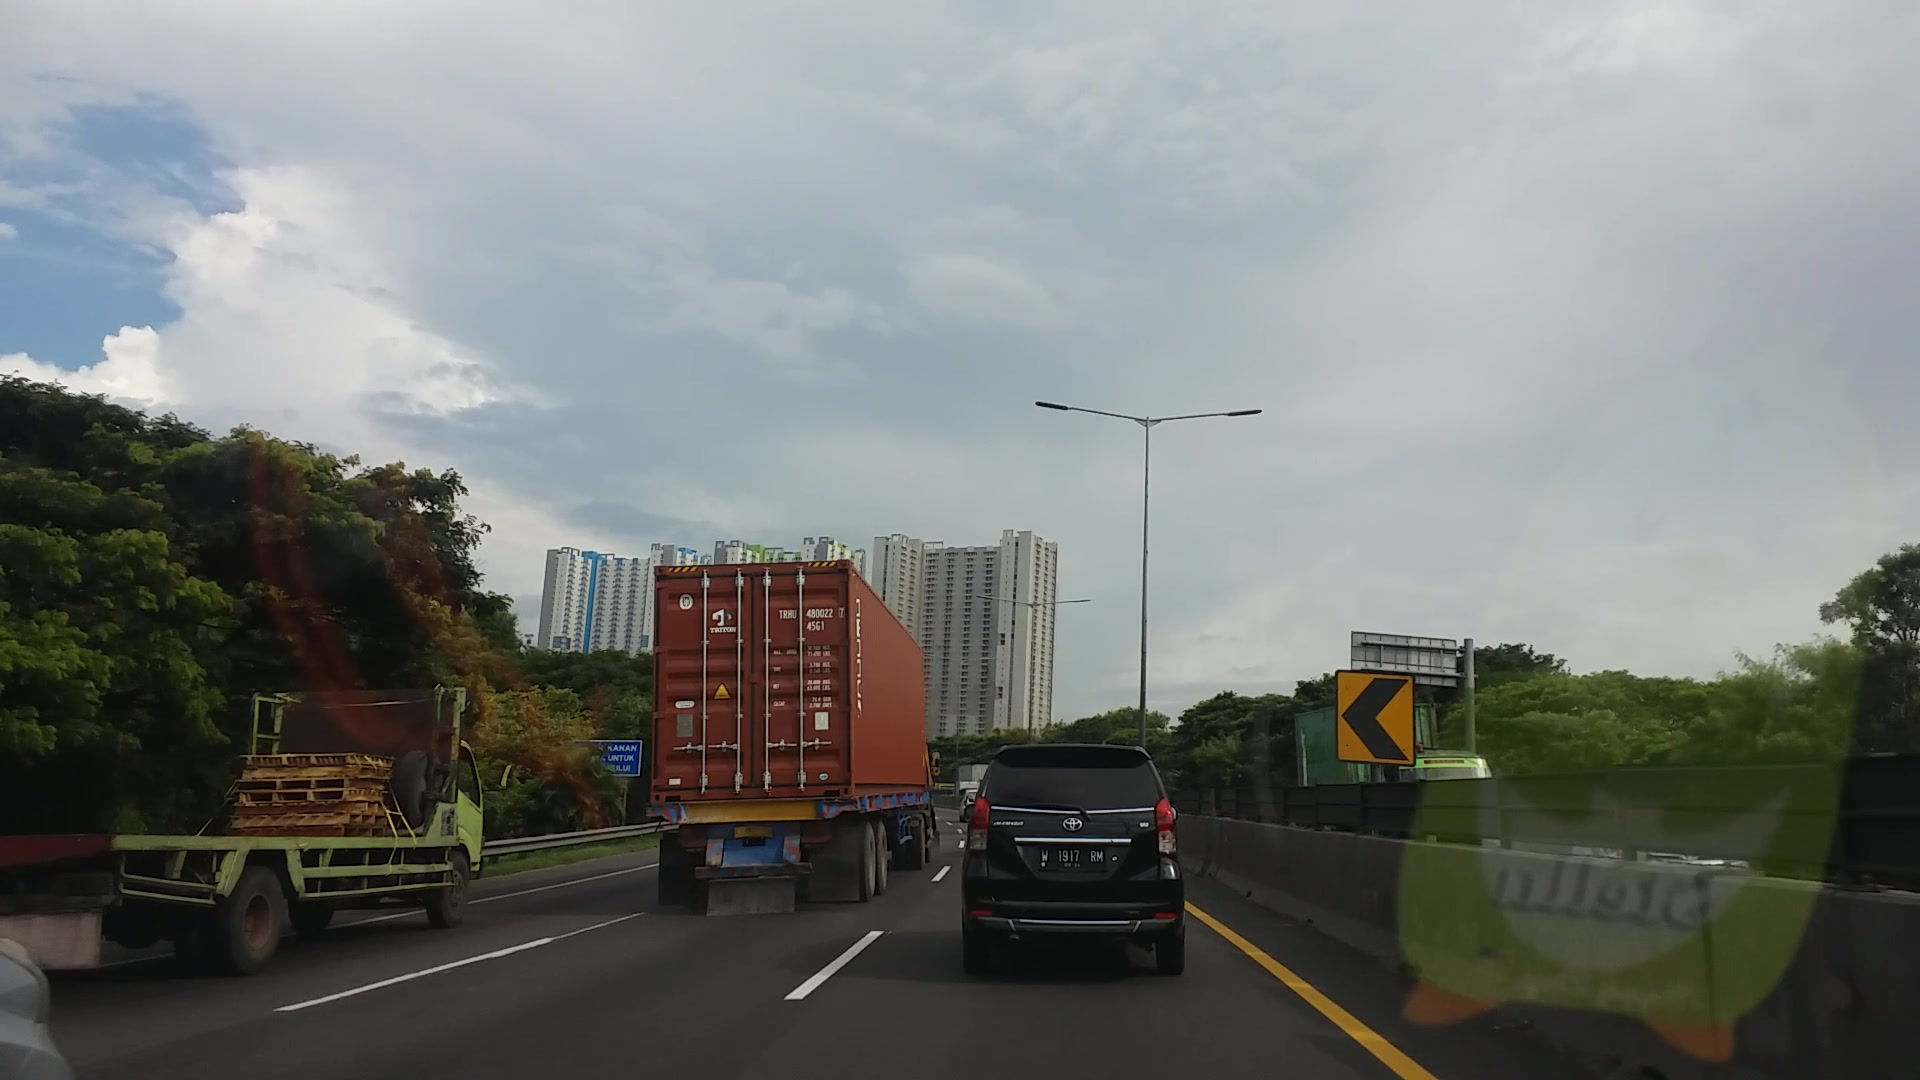plate_positive: (1039, 844, 1106, 872)
